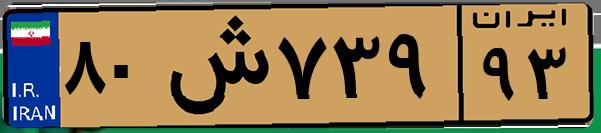0: (110, 28, 158, 98)
3: (330, 28, 385, 110), (525, 38, 570, 115)
7: (270, 28, 330, 110)
8: (57, 26, 110, 100)
9: (385, 28, 445, 110), (475, 38, 525, 113)
ش: (158, 12, 270, 120)
